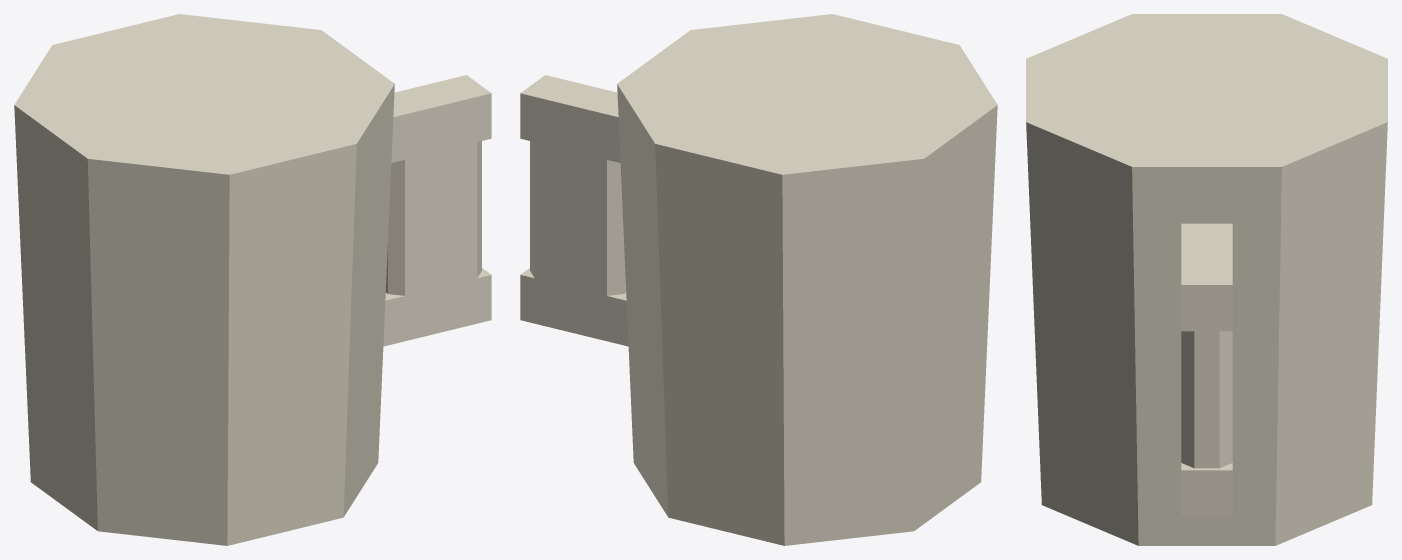
File: mug.glb
3 renders of one model, left to right at view 1: azimuth 30°, elevation 25°; view 2: azimuth 150°, elevation 25°; view 3: azimuth 270°, elevation 25°, orthographic. The views are drawn at different scales.
Parts seen in each view (by area): view 1: mug; view 2: mug; view 3: mug.
Part boxes in pixels (x1,y1,x2,y2): mug: [14, 14, 491, 545]; mug: [520, 14, 997, 545]; mug: [1026, 14, 1387, 545].
Size of the model in its own units: 0.1185 by 0.1 by 0.085.
